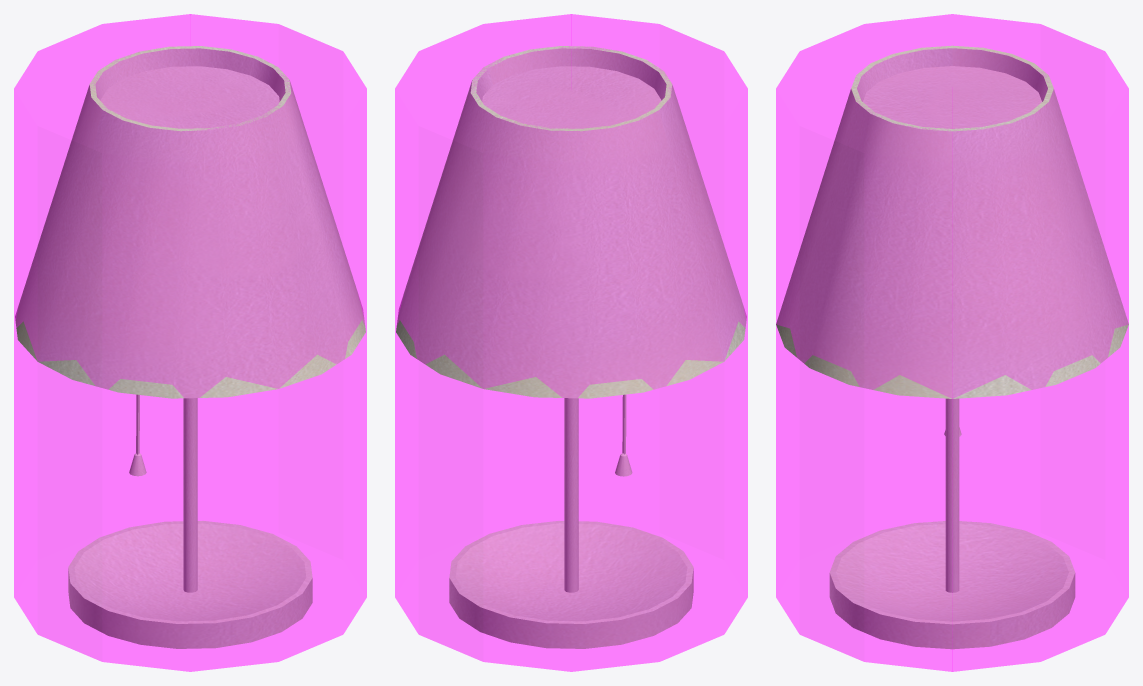
The model's file is desk_lamp.fbx.
3 views of the same model, side by side, from view 1: azimuth 30°, elevation 25°; view 2: azimuth 150°, elevation 25°; view 3: azimuth 270°, elevation 25° (orthographic).
Parts seen in each view (by area): view 1: boundingbox, desk_lamp; view 2: boundingbox, desk_lamp; view 3: boundingbox, desk_lamp.
Boxes of the visible parts, box(x1,y1,x2,y2) form: boundingbox: box(14, 14, 366, 671); desk_lamp: box(15, 46, 365, 648); boundingbox: box(395, 14, 747, 671); desk_lamp: box(396, 46, 746, 648); boundingbox: box(776, 14, 1128, 671); desk_lamp: box(776, 45, 1128, 649).
Bounding box in the file's own units: 25.26 × 40.18 × 25.26.
2 materials, 1 textured.
